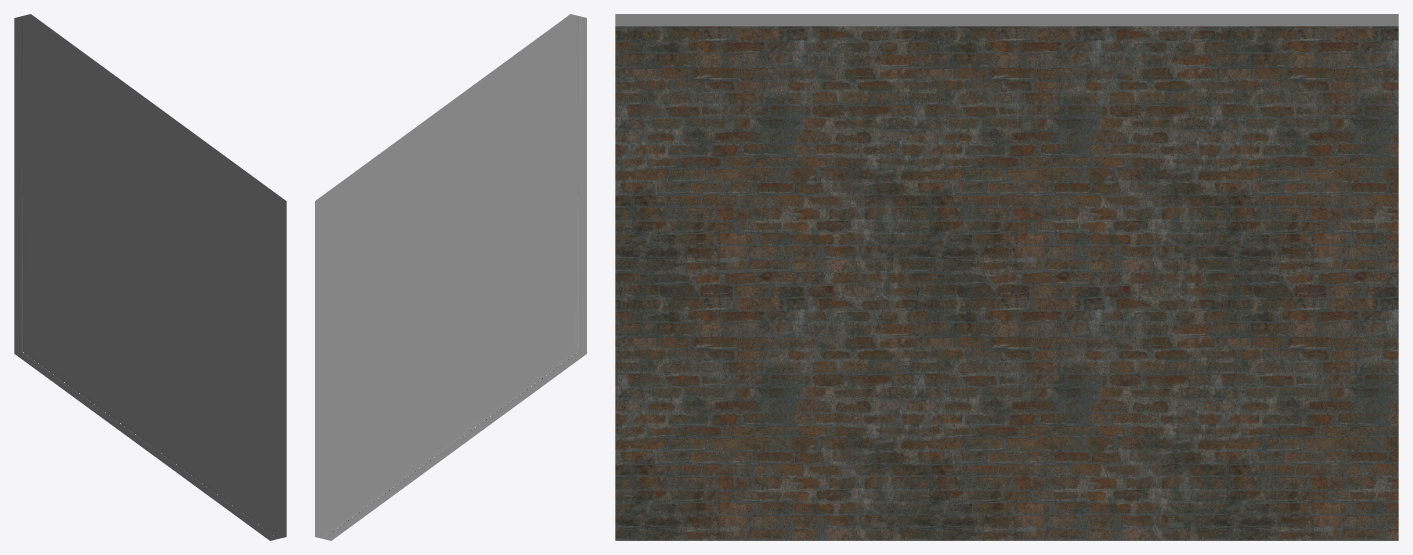
File: SM_Wall_03.gltf
3 renders of one model, left to right at view 1: azimuth 30°, elevation 25°; view 2: azimuth 150°, elevation 25°; view 3: azimuth 270°, elevation 25°, orthographic. The views are drawn at different scales.
Parts seen in each view (by area): view 1: SM_Wall_03_ConvexHulls; view 2: SM_Wall_03_ConvexHulls; view 3: SM_Wall_03_LOD0, SM_Wall_03_ConvexHulls.
Part boxes in pixels (<box>): SM_Wall_03_ConvexHulls: <box>14,14,286,540</box>; SM_Wall_03_ConvexHulls: <box>315,14,586,540</box>; SM_Wall_03_LOD0: <box>615,26,1398,540</box>; SM_Wall_03_ConvexHulls: <box>615,14,1398,540</box>.
Size of what is drawn, in the model's own units: 0.2554 by 5 by 6.9.
